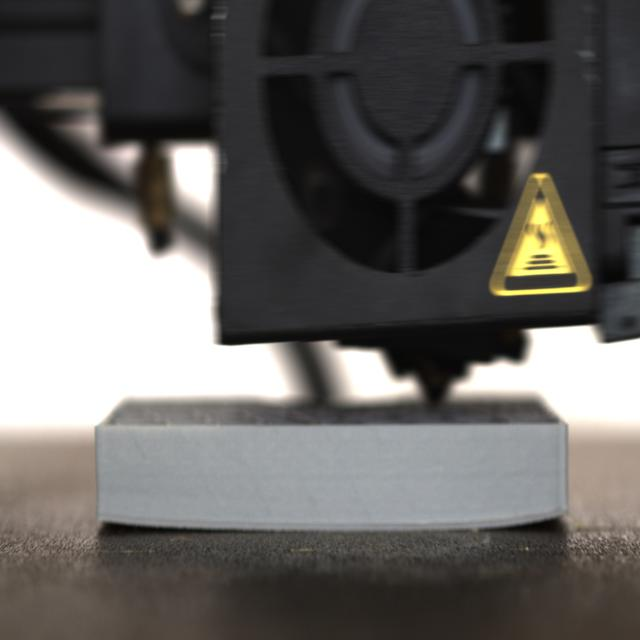Warping: (94, 510, 171, 538), (506, 504, 569, 536)
